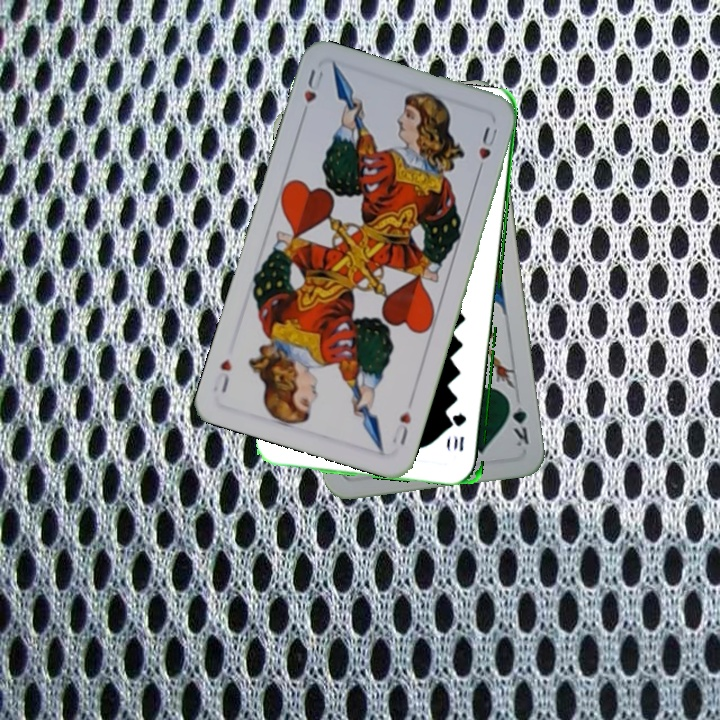G10: (449, 409, 469, 454)
GK: (504, 393, 532, 449)
HU: (297, 64, 326, 121), (388, 408, 414, 448)
